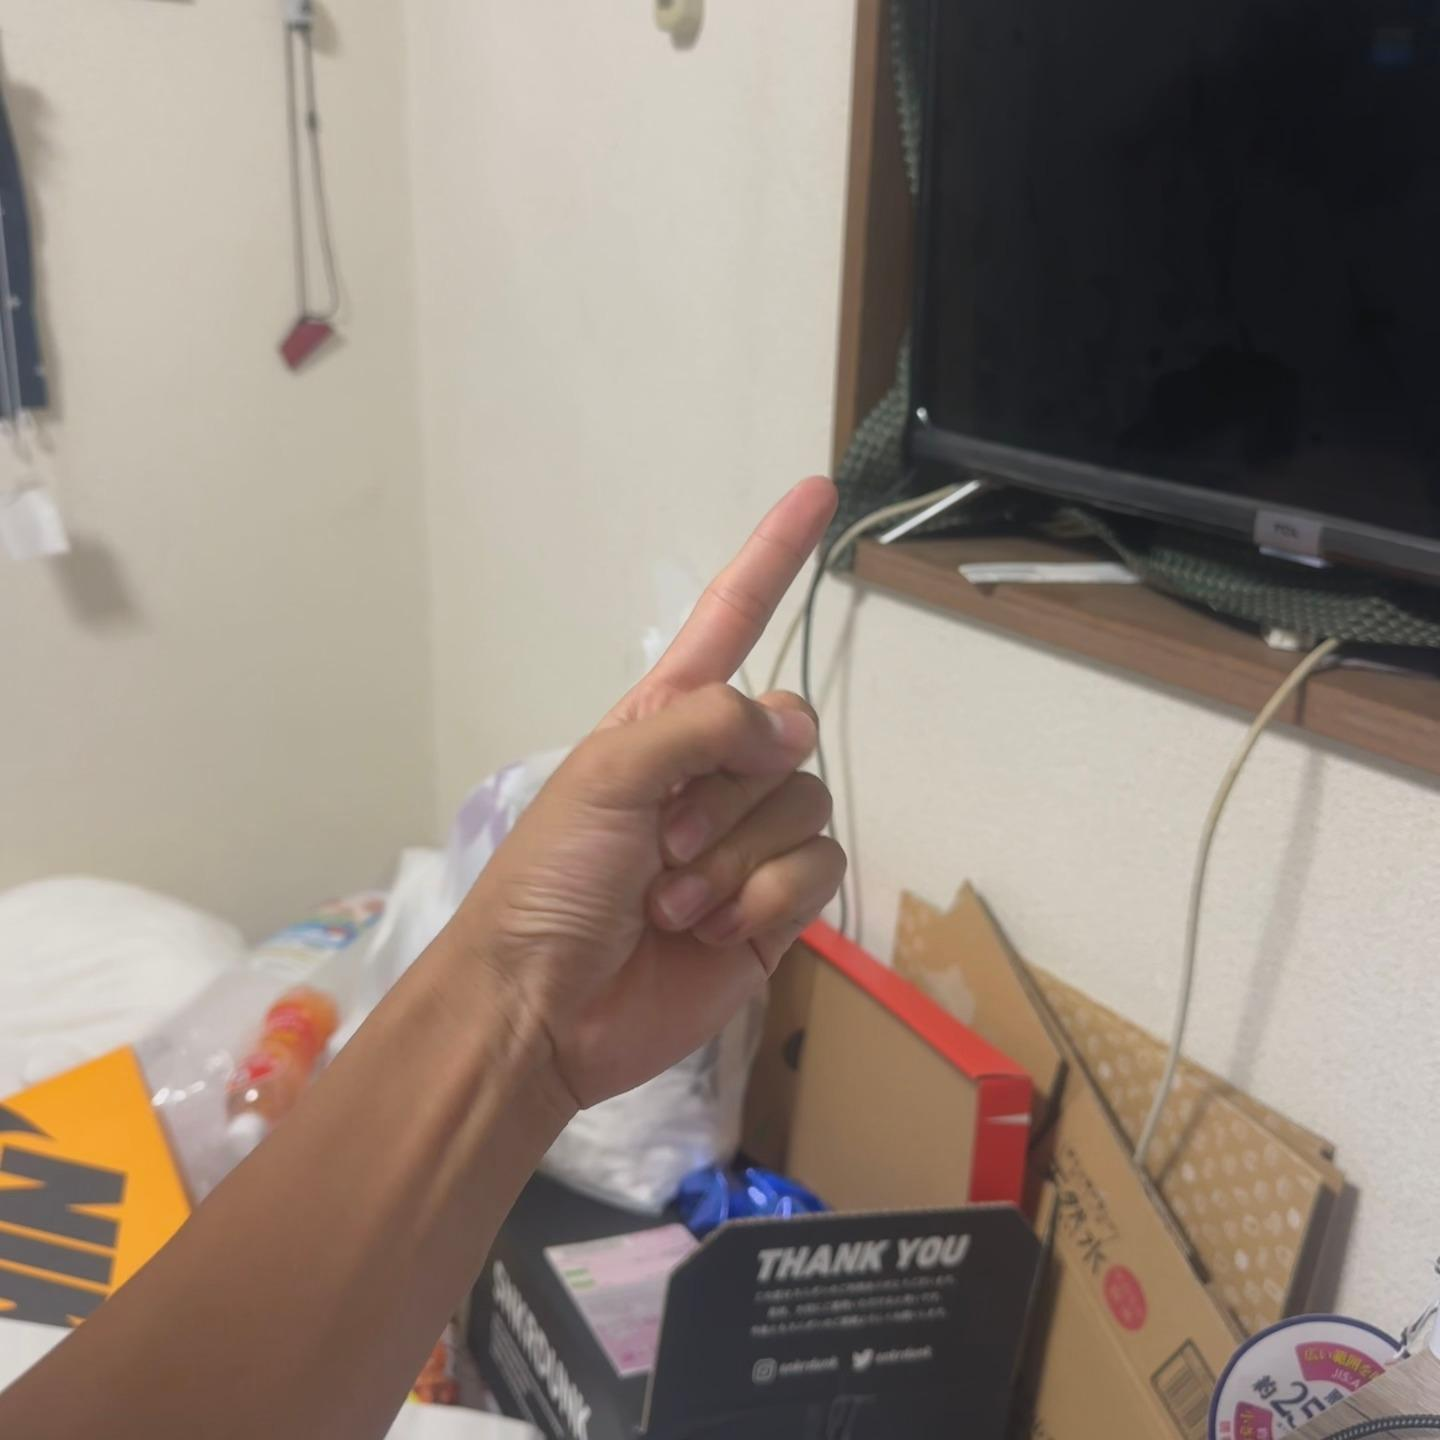without_gloves: (447, 315, 949, 1145)
